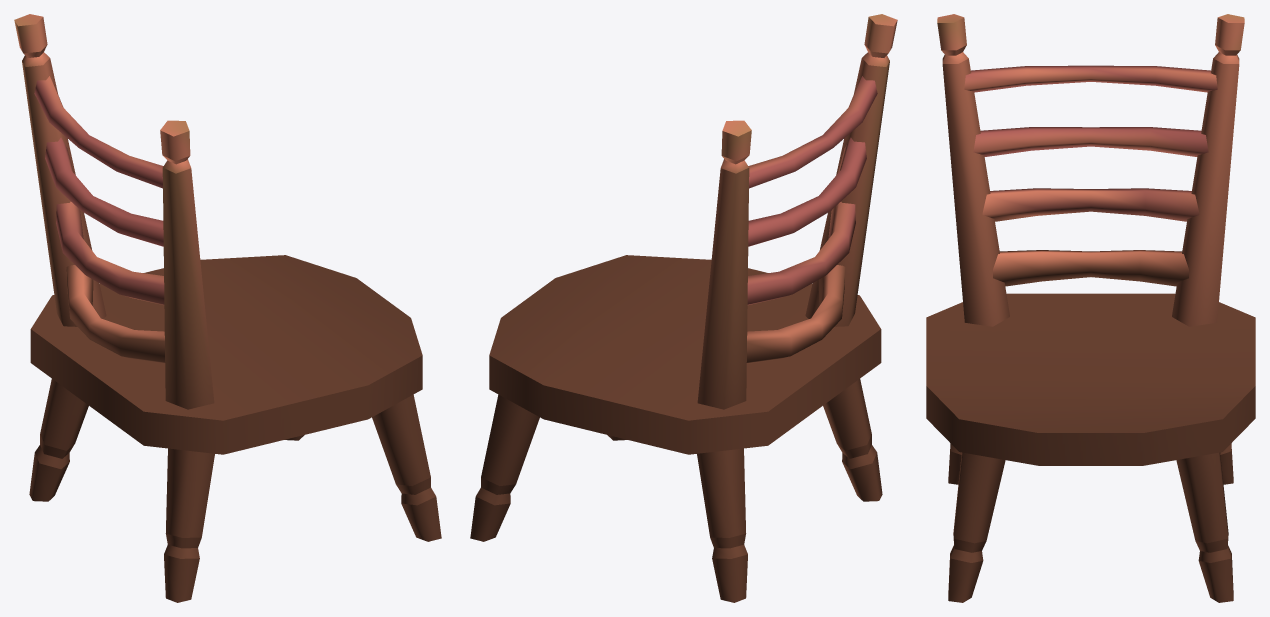
The model's file is Chair.fbx.
The picture shows the model from 3 angles, left to right: view 1: azimuth 30°, elevation 25°; view 2: azimuth 150°, elevation 25°; view 3: azimuth 270°, elevation 25°; orthographic projection. The views are drawn at different scales.
Parts seen in each view (by area): view 1: Chair; view 2: Chair; view 3: Chair.
Boxes of the visible parts, x1=… form: Chair: x1=14, y1=14, x2=441, y2=602; Chair: x1=470, y1=14, x2=897, y2=602; Chair: x1=926, y1=14, x2=1255, y2=602.
Bounding box in the file's own units: 108 × 161 × 105.
